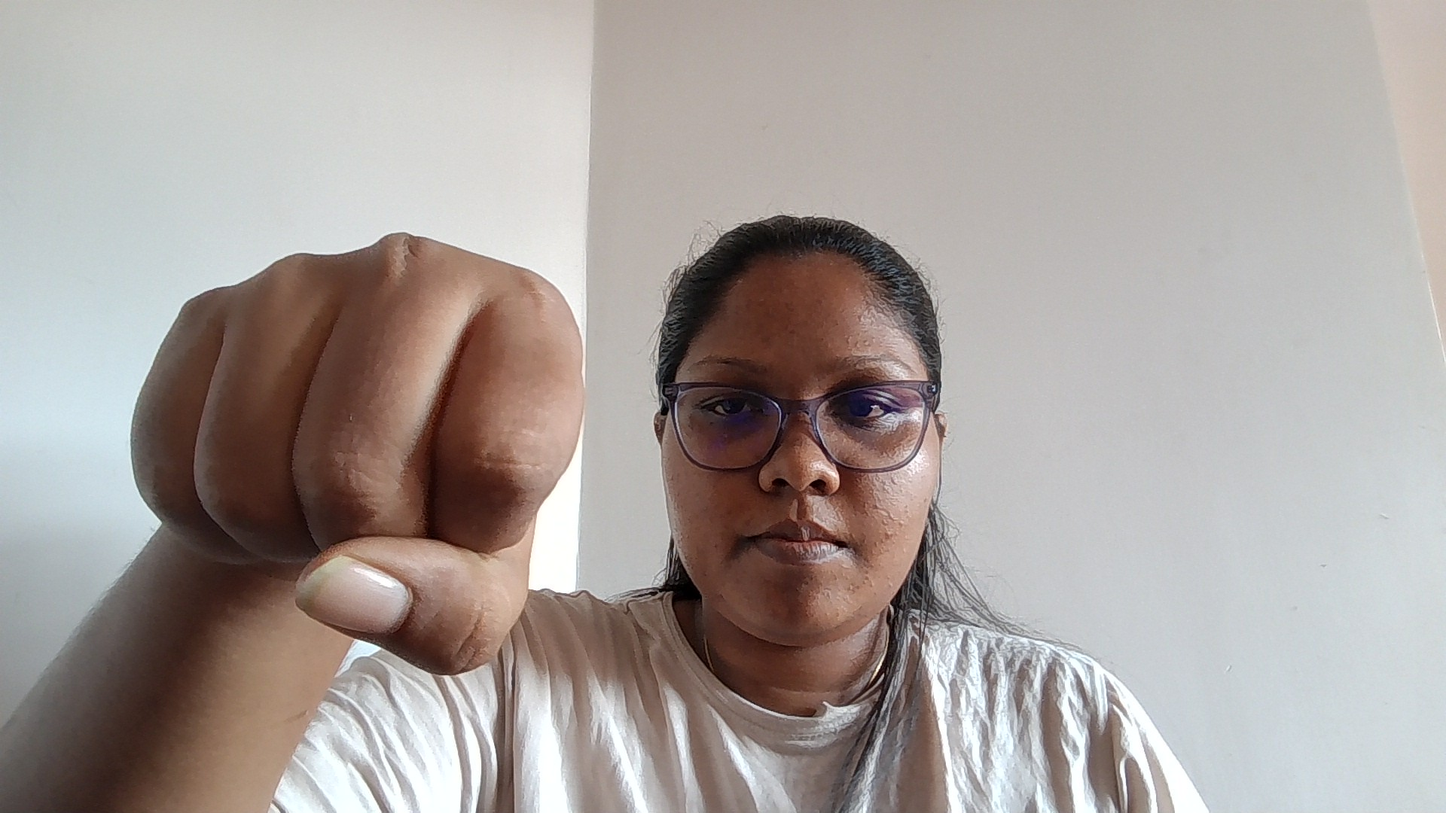Yes: (66, 186, 637, 699)
